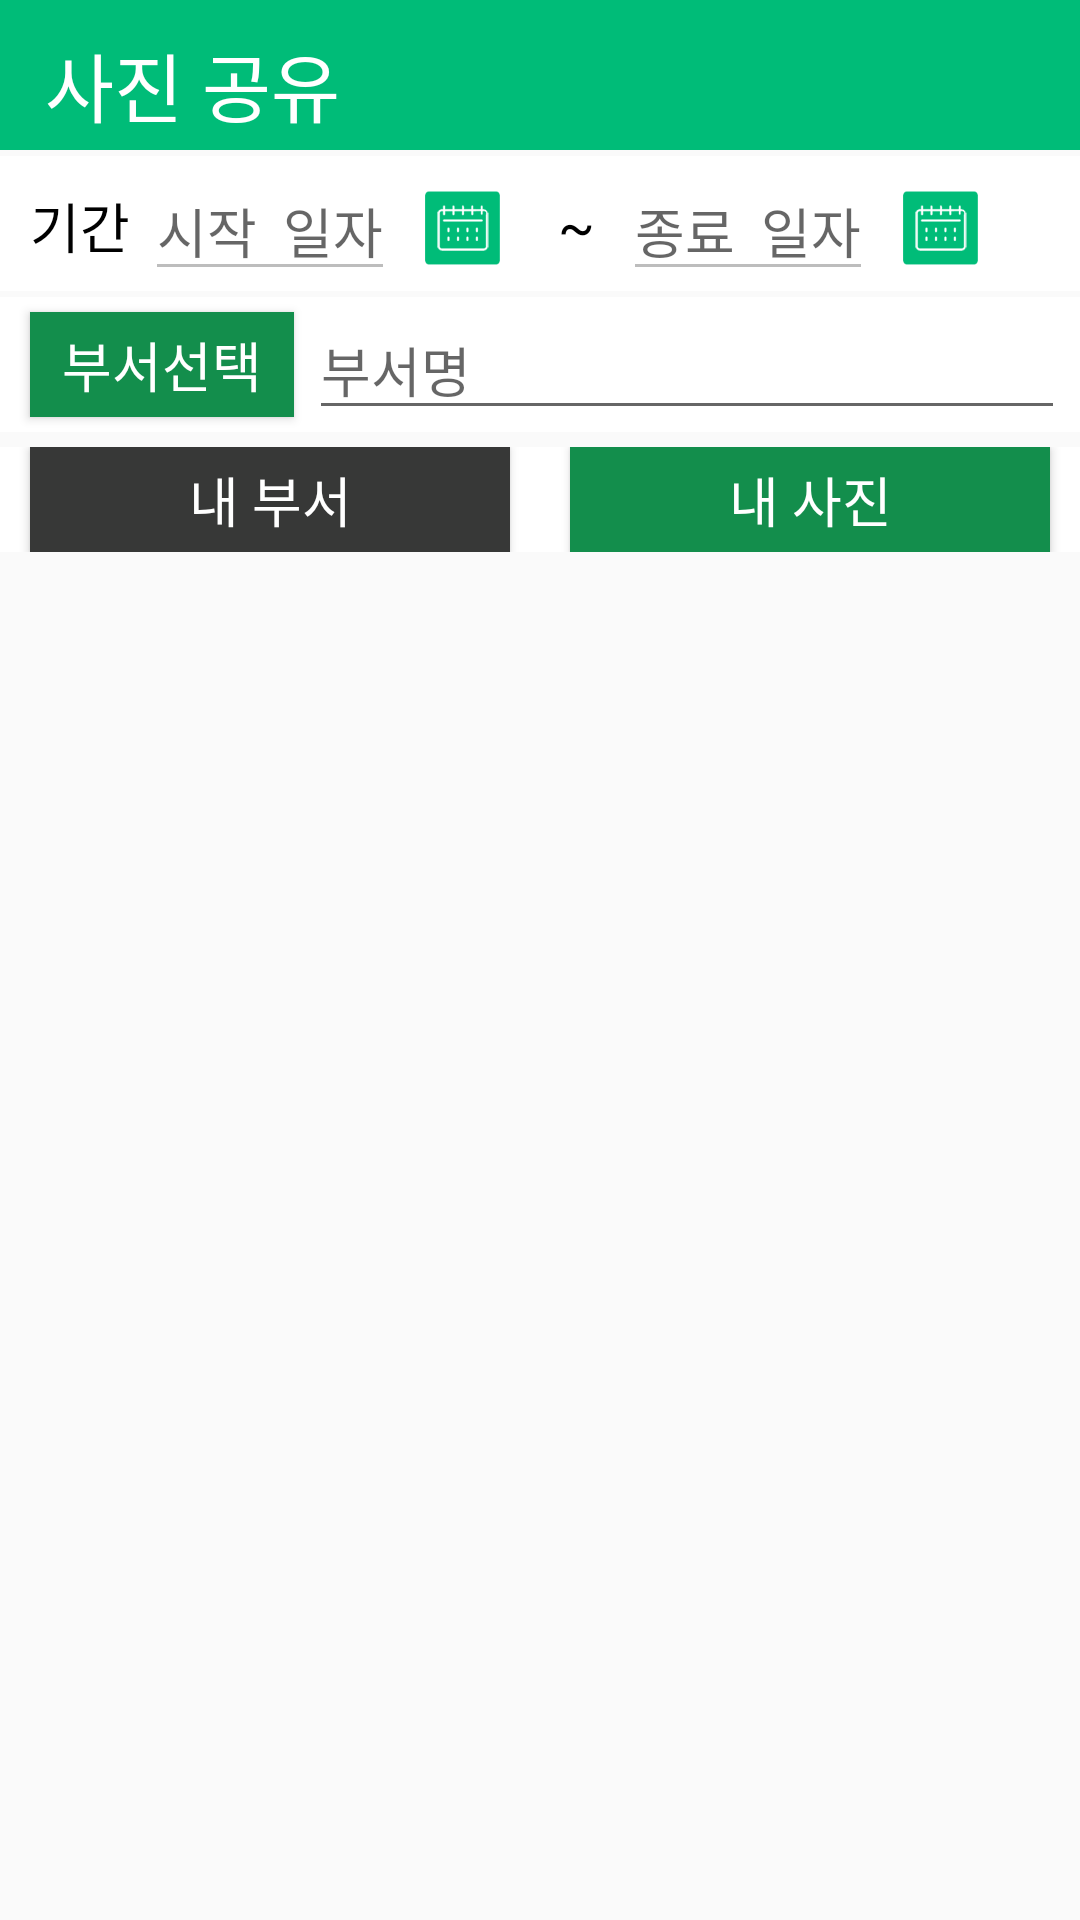

Screen size 1080×1920. Icon name, then its box in pixels as bbox(x1, y1, x2, y2):
cal: bbox(425, 191, 500, 265), bbox(903, 191, 978, 265)
